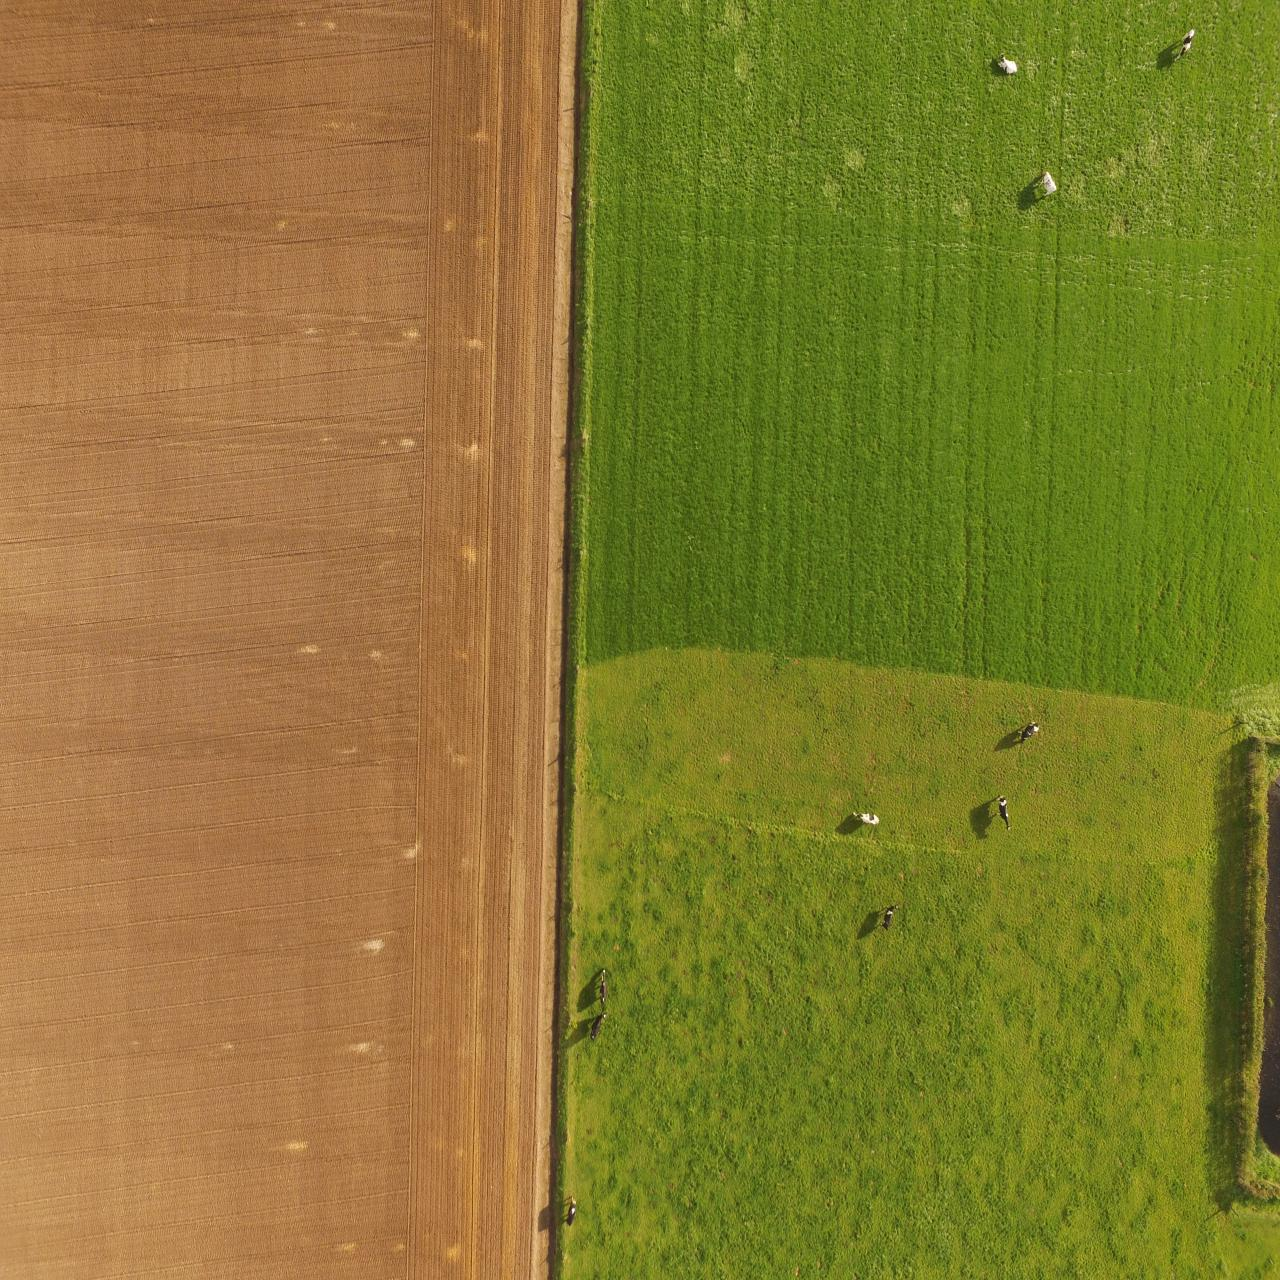cow: (1173, 23, 1199, 60), (1037, 165, 1058, 203), (994, 791, 1010, 835), (588, 1010, 610, 1040), (851, 809, 881, 829), (880, 900, 900, 931), (996, 50, 1020, 76), (1017, 720, 1041, 745), (598, 965, 608, 1006), (565, 1194, 578, 1226)
